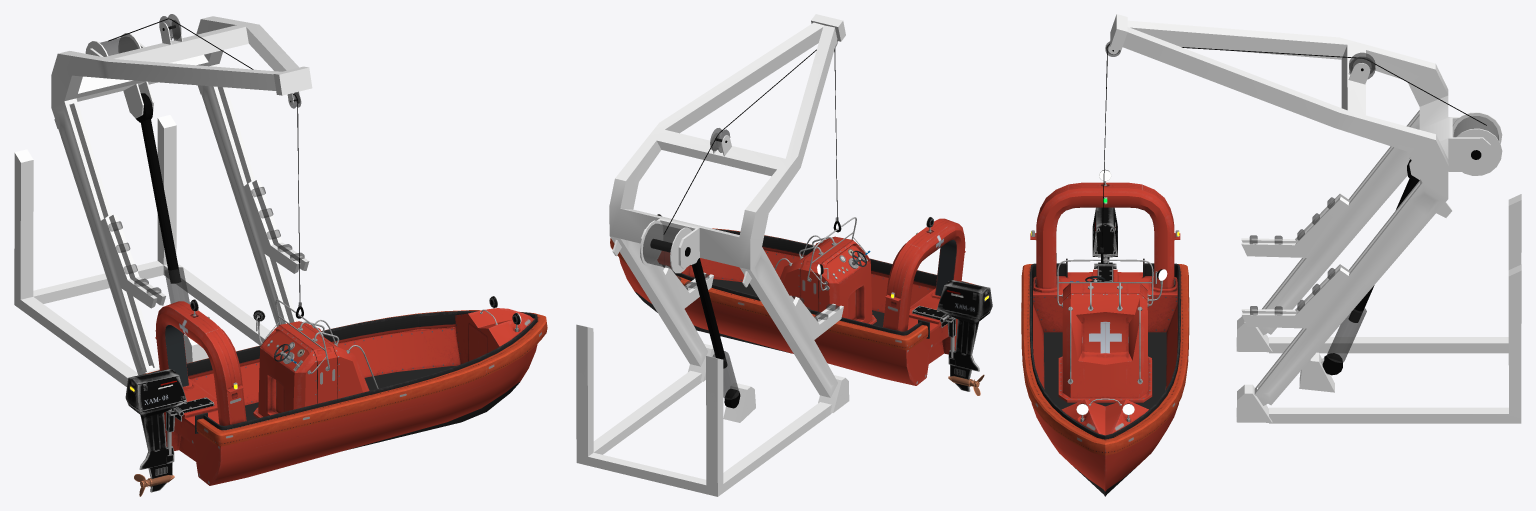
Rendered from Life Boat.fbx.
The picture shows the model from 3 angles, left to right: view 1: azimuth 30°, elevation 25°; view 2: azimuth 150°, elevation 25°; view 3: azimuth 270°, elevation 25°; orthographic projection. The views are drawn at different scales.
Visible parts, largest first — view 1: FastRescueBoat_FastRescueBoat_0, RB_Crane003_White_0.006, RB_Crane003_White_0.005, RB_Crane003_Chrome_0, RB_Crane003_gray_0, RB_Crane003_White_0.007; view 2: FastRescueBoat_FastRescueBoat_0, RB_Crane003_White_0.006, RB_Crane003_White_0.005, RB_Crane003_gray_0, RB_Crane003_Chrome_0, RB_Crane003_White_0.001, RB_Crane003_White_0.011, RB_Crane003_White_0; view 3: FastRescueBoat_FastRescueBoat_0, RB_Crane003_White_0.006, RB_Crane003_White_0.005, RB_Crane003_gray_0, RB_Crane003_Chrome_0, RB_Crane003_White_0.002, RB_Crane003_White_0.001, RB_Crane003_White_0, RB_Crane003_White_0.004, RB_Crane003_White_0.011.
Part boxes in pixels (box(x1,y1,x2,y2)): FastRescueBoat_FastRescueBoat_0: box(125, 296, 547, 496); RB_Crane003_White_0.006: box(51, 16, 309, 375); RB_Crane003_White_0.005: box(14, 115, 271, 386); RB_Crane003_Chrome_0: box(108, 18, 303, 334); RB_Crane003_gray_0: box(100, 14, 304, 307); RB_Crane003_White_0.007: box(273, 66, 312, 95); FastRescueBoat_FastRescueBoat_0: box(610, 214, 992, 395); RB_Crane003_White_0.006: box(609, 22, 843, 397); RB_Crane003_White_0.005: box(576, 324, 831, 496); RB_Crane003_gray_0: box(643, 41, 839, 399); RB_Crane003_Chrome_0: box(650, 48, 841, 408); RB_Crane003_White_0.001: box(723, 382, 755, 422); RB_Crane003_White_0.011: box(640, 220, 662, 266); RB_Crane003_White_0: box(818, 375, 849, 412); FastRescueBoat_FastRescueBoat_0: box(1021, 169, 1189, 496); RB_Crane003_White_0.006: box(1122, 20, 1490, 405); RB_Crane003_White_0.005: box(1269, 194, 1521, 423); RB_Crane003_gray_0: box(1100, 41, 1498, 362); RB_Crane003_Chrome_0: box(1101, 44, 1486, 375); RB_Crane003_White_0.002: box(1236, 384, 1272, 422); RB_Crane003_White_0.001: box(1299, 352, 1334, 392); RB_Crane003_White_0: box(1236, 316, 1272, 352); RB_Crane003_White_0.004: box(1452, 112, 1502, 143); RB_Crane003_White_0.011: box(1456, 128, 1502, 175).
Size of the model in its own units: 487 by 433 by 506.
4 materials, 1 textured.
